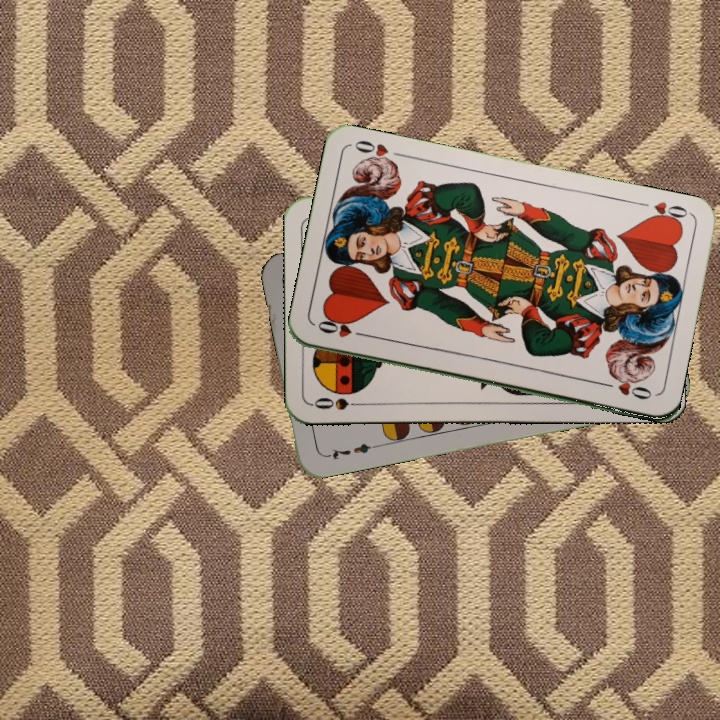E7: (321, 439, 380, 463)
HO: (643, 197, 693, 228), (313, 316, 371, 341)
SO: (310, 394, 369, 413)
